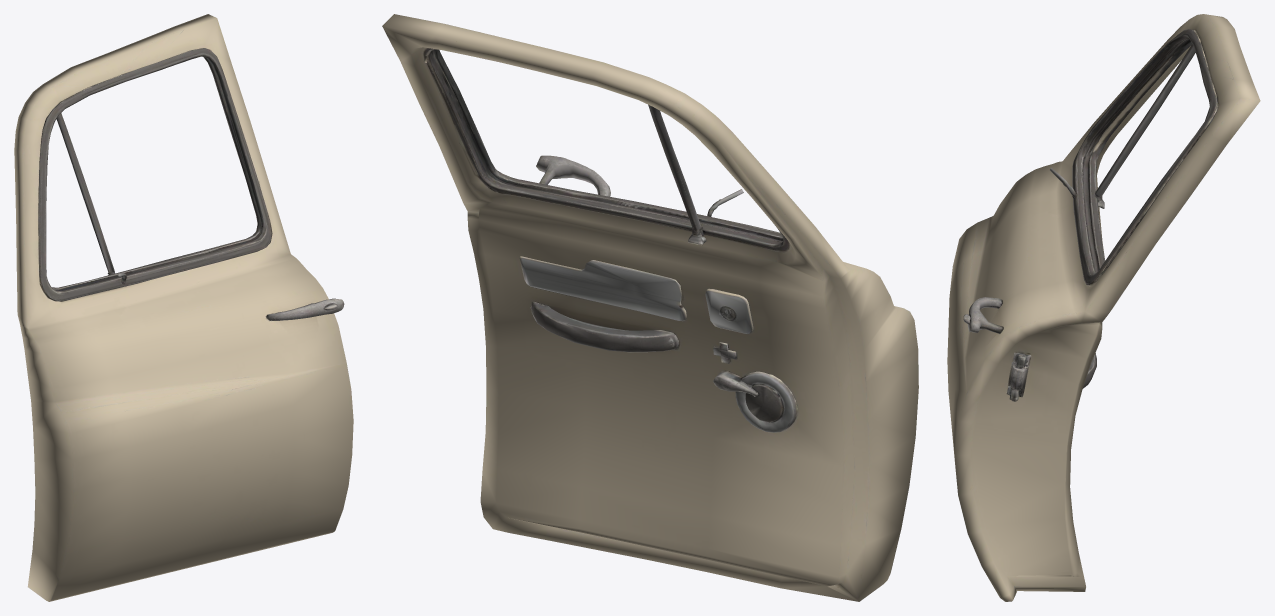
Rendered from optimized_glb.glb.
The picture shows the model from 3 angles, left to right: view 1: azimuth 30°, elevation 25°; view 2: azimuth 150°, elevation 25°; view 3: azimuth 270°, elevation 25°; orthographic projection. The views are drawn at different scales.
Parts seen in each view (by area): view 1: left front door; view 2: left front door; view 3: left front door.
Part boxes in pixels (x1,y1,x2,y2): left front door: [14, 14, 353, 601]; left front door: [382, 14, 918, 601]; left front door: [947, 14, 1260, 601].
Size of the model in its own units: 0.6699 by 0.998 by 0.5684.
Materials: 1 (1 with a texture image).
